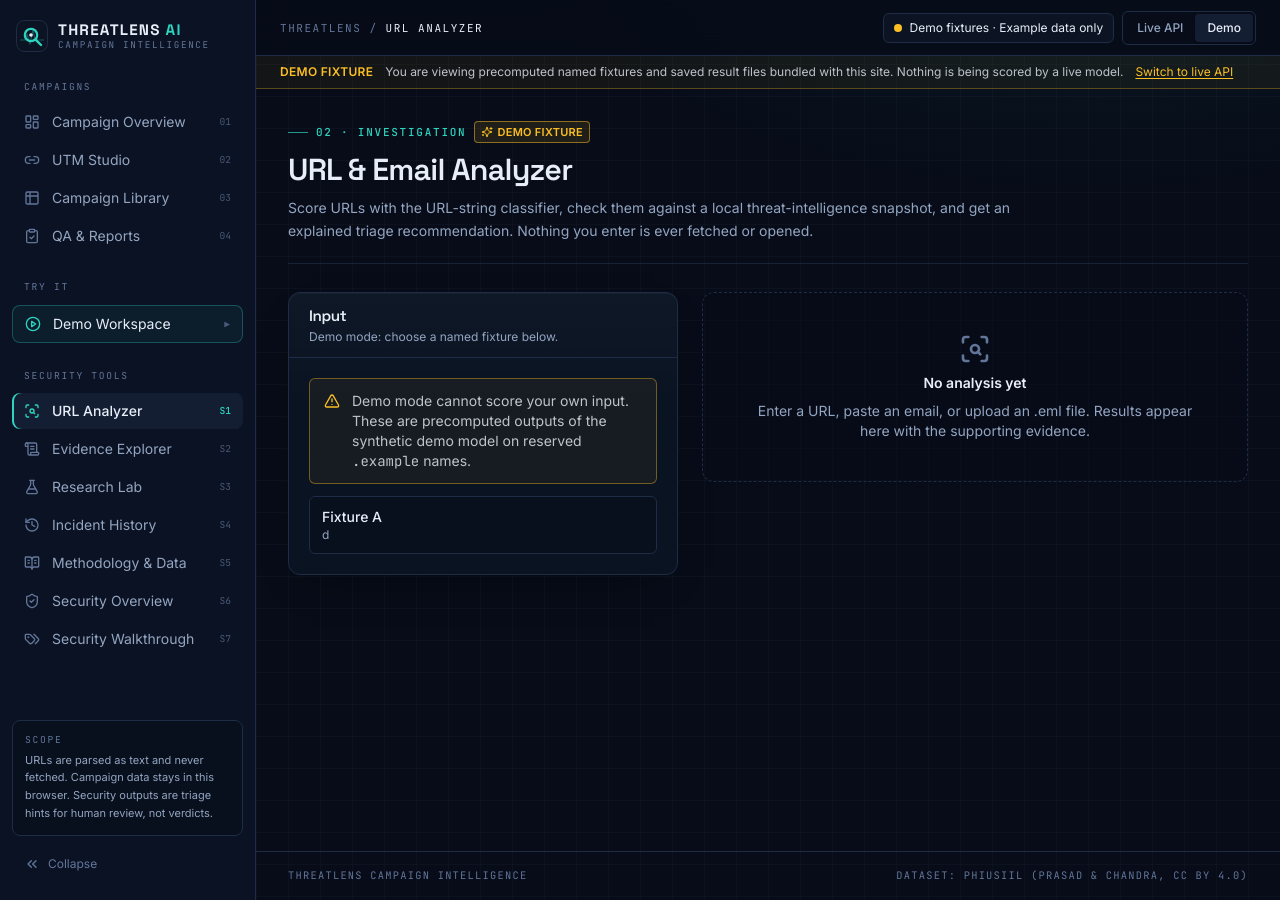
Scenario: C. demo fixtures › are labelled DEMO FIXTURE and kept apart from user-input analyses
Expected: the message with test id "mode-pill" reads "Demo fixtures · Example data only", [910,20,1103,34]
Expected: the text "DEMO FIXTURE" is shown, [280,64,373,80]
Click the button "Fixture A d".
click(352, 517)  # box [309,496,657,554]
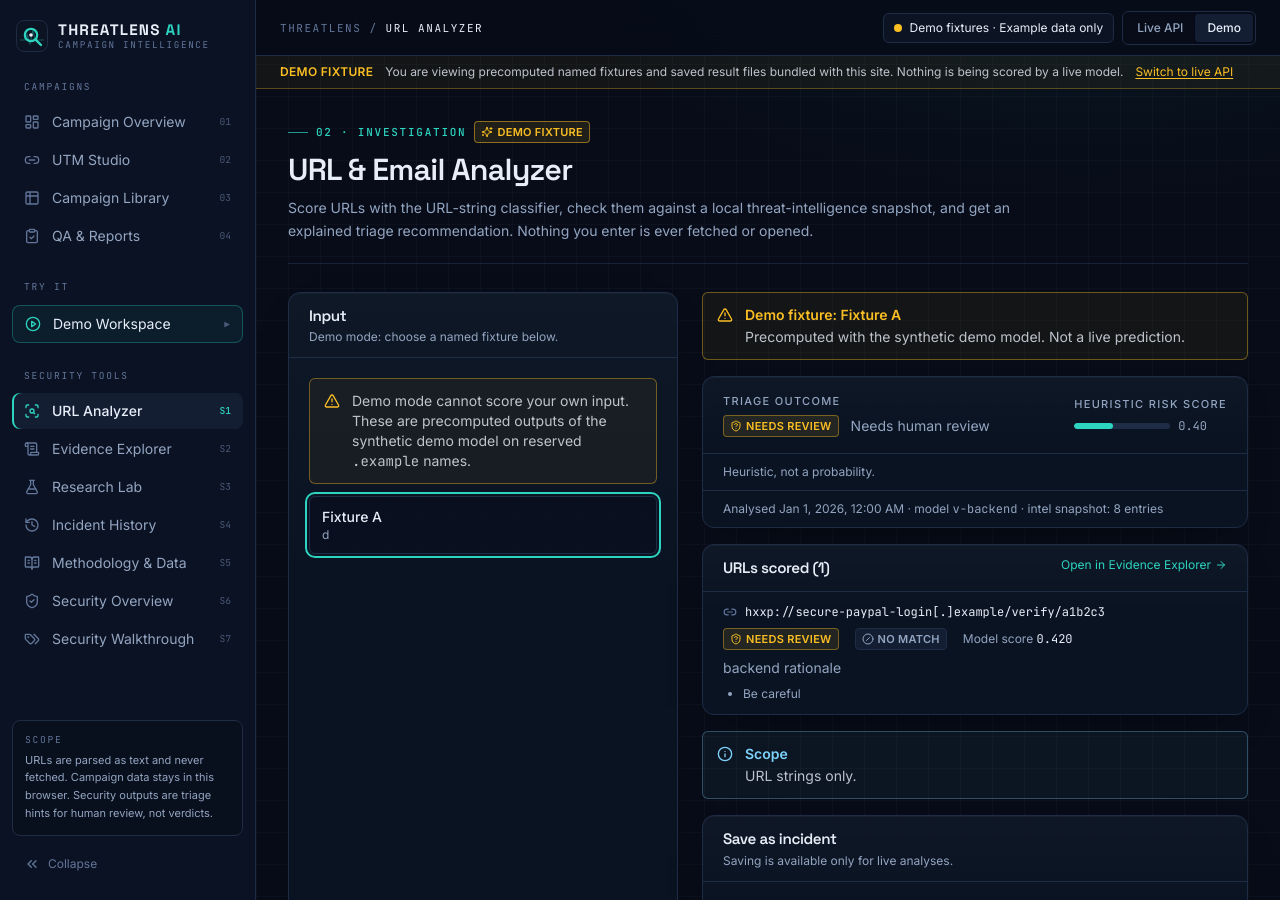
Expected: the text "Demo fixture: Fixture A" is shown, [745,306,901,322]
